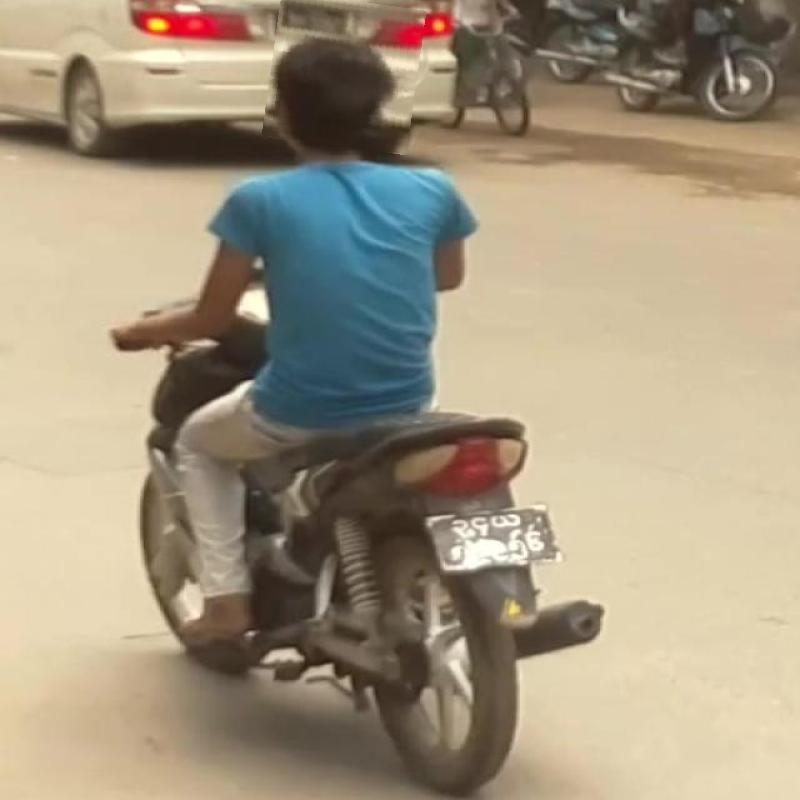nohelmet: (266, 0, 421, 150)
